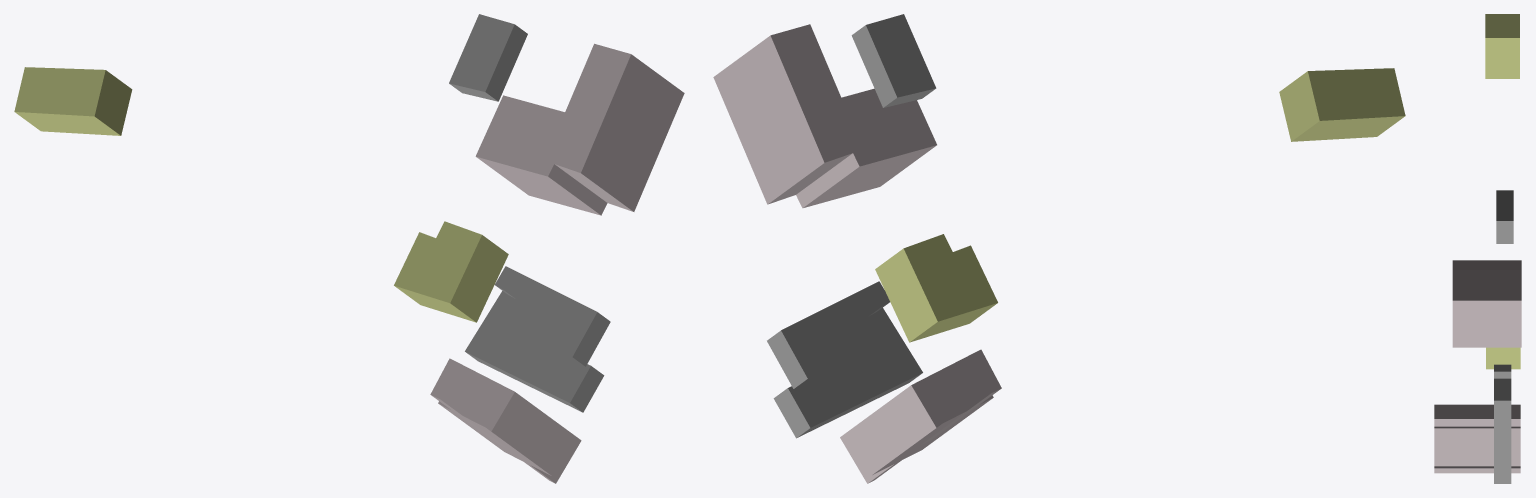
3 renders of one model, left to right at view 1: azimuth 30°, elevation 25°; view 2: azimuth 150°, elevation 25°; view 3: azimuth 270°, elevation 25°, orthographic. The views are drawn at different scales.
Visible parts, largest first — view 1: 0_1_0_0_2_1_0_2; view 2: 0_1_0_0_2_1_0_2; view 3: 0_1_0_0_2_1_0_2.
Boxes of the visible parts, <box> form: 0_1_0_0_2_1_0_2: <box>14,14,684,483</box>; 0_1_0_0_2_1_0_2: <box>713,14,1405,483</box>; 0_1_0_0_2_1_0_2: <box>1434,14,1521,483</box>.
Size of the model in its own units: 80.34 by 59.82 by 15.2.
